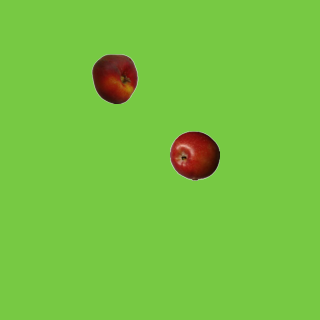Apple Braeburn: (169, 130, 219, 180)
Nectarine Flat: (89, 53, 139, 103)
